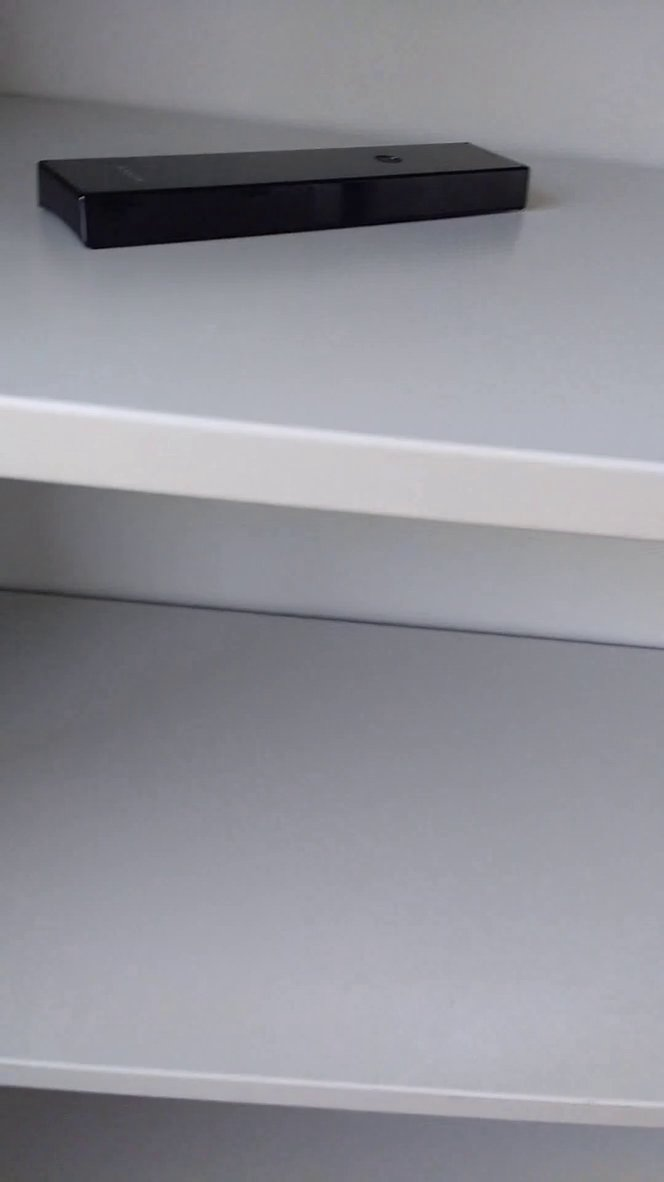remote: (32, 116, 540, 272)
